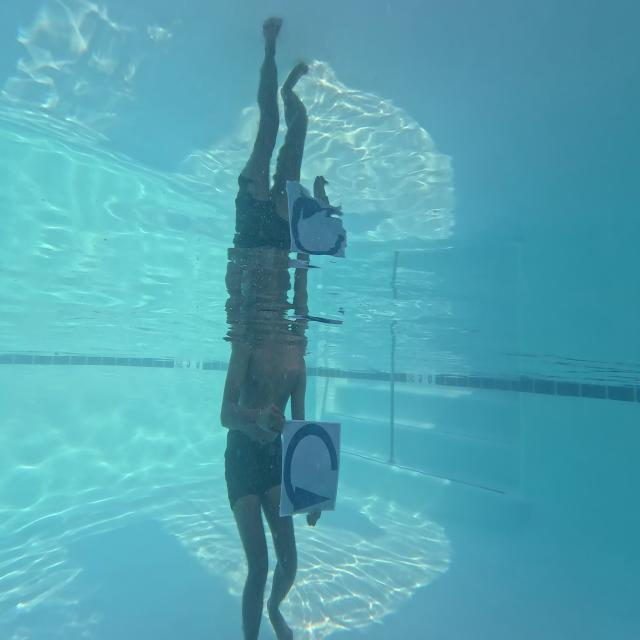blue_side: (278, 415, 339, 523)
